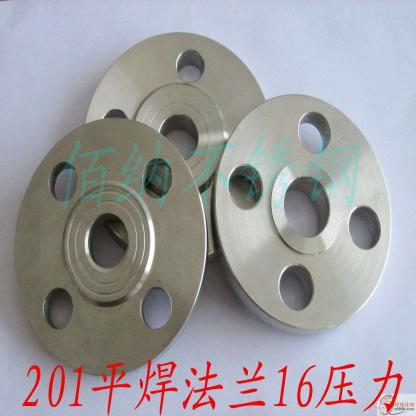FOD: (12, 112, 209, 377), (81, 27, 275, 272), (213, 89, 394, 336)
